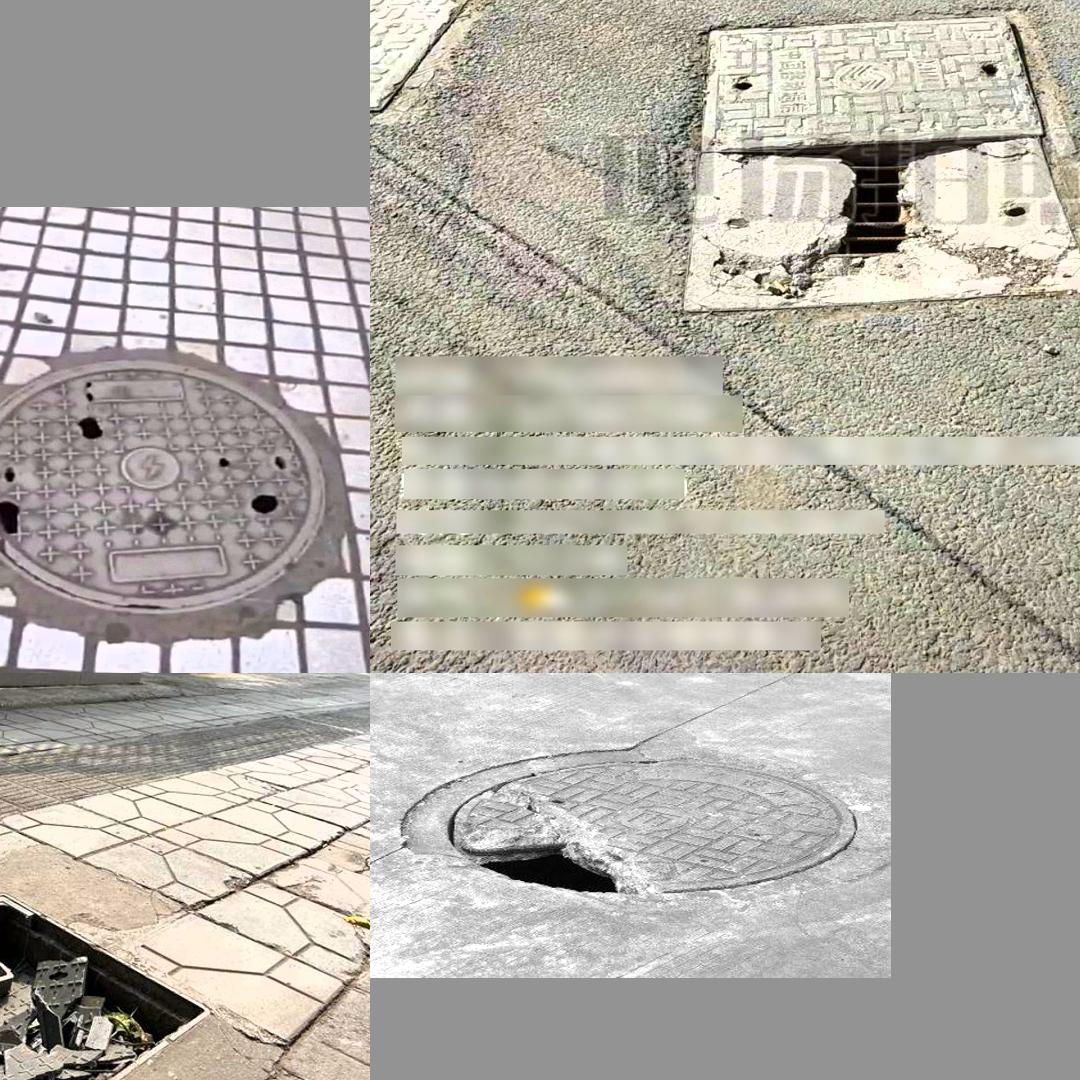broke: (679, 15, 1080, 314), (0, 365, 327, 615), (0, 853, 321, 1080), (460, 747, 858, 892)
